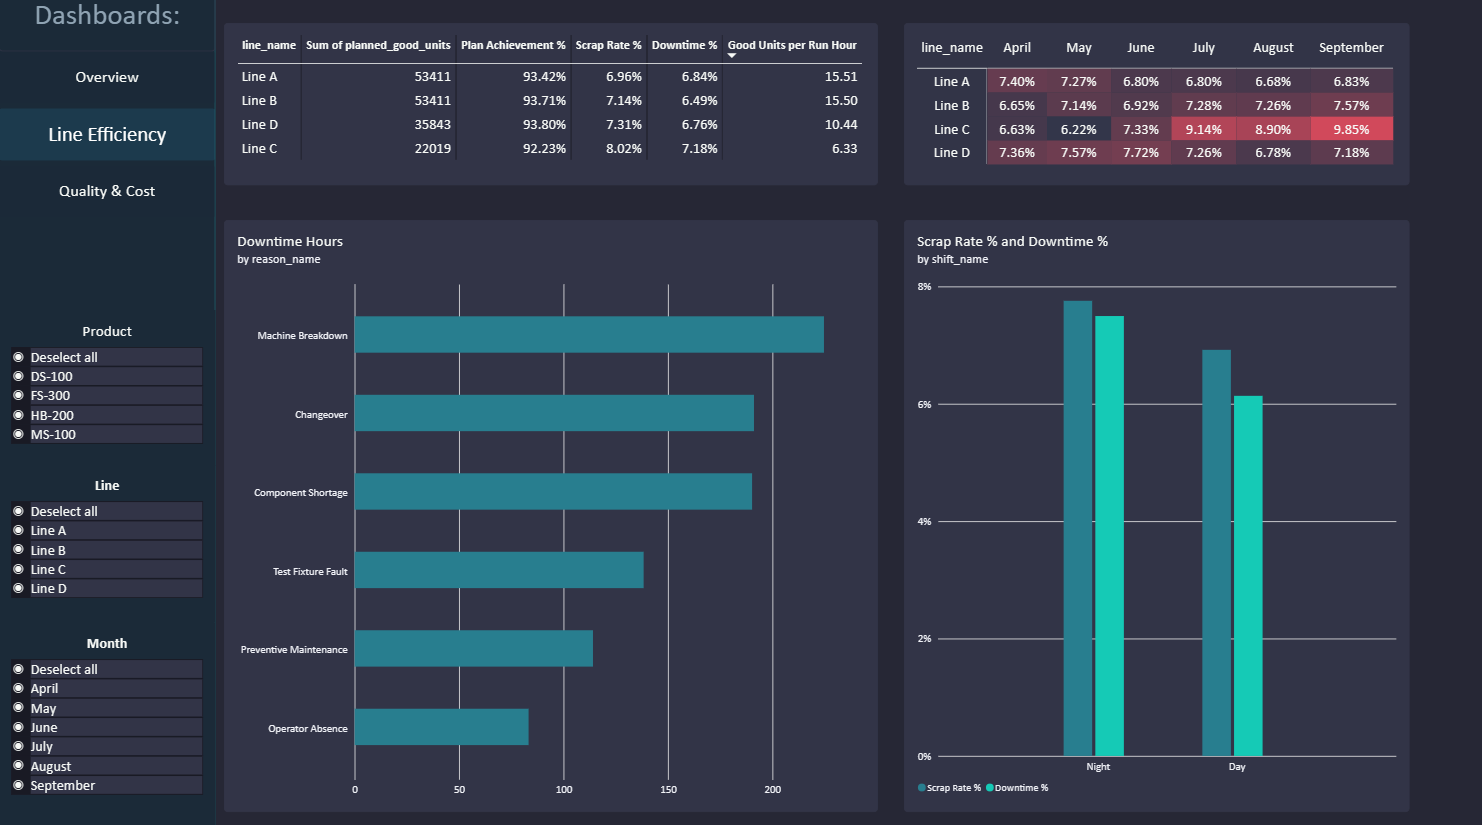

This screenshot's page, from the dashboard's own definition file:
{"tool":"powerbi","page":{"name":"Line Efficiency","canvas":[1920,1080],"ordinal":1},"visuals":[{"type":"textbox","box":[0,0,280,72.5],"z":0,"group":"g3"},{"type":"tableEx","fields":{"Values":["production_lines.line_name","Sum(production_plan.planned_good_units)","Table.Plan Achievement %","Table.Scrap Rate %","Table.Downtime %","Table.Good Units per Run Hour"]},"box":[291.4,35.7,845.7,210],"z":0},{"type":"pageNavigator","box":[0,72.9,280,218.3],"z":1000,"group":"g3"},{"type":"clusteredColumnChart","fields":{"Category":["shifts.shift_name"],"Y":["Table.Scrap Rate %","Table.Downtime %"]},"box":[1171.4,291.4,654.3,765.7],"z":1000},{"type":"clusteredBarChart","fields":{"Category":["downtime_reasons.reason_name"],"Y":["Table.Downtime Hours"]},"box":[291.4,291.4,845.7,765.7],"z":2000},{"type":"shape","box":[0,0,280,1080],"z":3000,"group":"g2"},{"type":"listSlicer","title":"Month","fields":{"Values":["dim_date.month_name"]},"box":[0,813.4,280,266.7],"z":4000,"group":"g1"},{"type":"listSlicer","title":"Line","fields":{"Values":["production_lines.line_name"]},"box":[0,608.9,280,204.4],"z":6000,"group":"g1"},{"type":"listSlicer","title":"Product","fields":{"Values":["products.product_code"]},"box":[0,407.8,280,201.1],"z":7500,"group":"g1"},{"type":"group","id":"g1","title":"Slicers","box":[0,407.8,280,672.2],"z":7501,"group":"g2"},{"type":"group","id":"g2","title":"Panel","box":[0,0,280,1080],"z":7502},{"type":"pivotTable","fields":{"Columns":["dim_date.month_name"],"Rows":["production_lines.line_name"],"Values":["Table.Scrap Rate %"]},"box":[1171.4,35.7,654.3,210],"z":7503},{"type":"group","id":"g3","title":"Dashboard","box":[0,0,280,291.2],"z":8001,"group":"g2"}]}

Visuals, with their boxes in screenshot pixels (x1, y1, x2, y2), scaled from the page's 1920x1080 canvas onto the 1482x825 screenshot:
textbox: left=0, top=0, right=216, bottom=55
tableEx - production_lines.line_name x Sum(production_plan.planned_good_units): left=225, top=27, right=878, bottom=188
pageNavigator: left=0, top=56, right=216, bottom=222
clusteredColumnChart - shifts.shift_name x Table.Scrap Rate %: left=904, top=223, right=1409, bottom=808
clusteredBarChart - downtime_reasons.reason_name x Table.Downtime Hours: left=225, top=223, right=878, bottom=808
shape: left=0, top=0, right=216, bottom=824
"Month" listSlicer: left=0, top=621, right=216, bottom=824
"Line" listSlicer: left=0, top=465, right=216, bottom=621
"Product" listSlicer: left=0, top=312, right=216, bottom=465
"Slicers" group: left=0, top=312, right=216, bottom=824
"Panel" group: left=0, top=0, right=216, bottom=824
pivotTable - dim_date.month_name x production_lines.line_name: left=904, top=27, right=1409, bottom=188
"Dashboard" group: left=0, top=0, right=216, bottom=222
